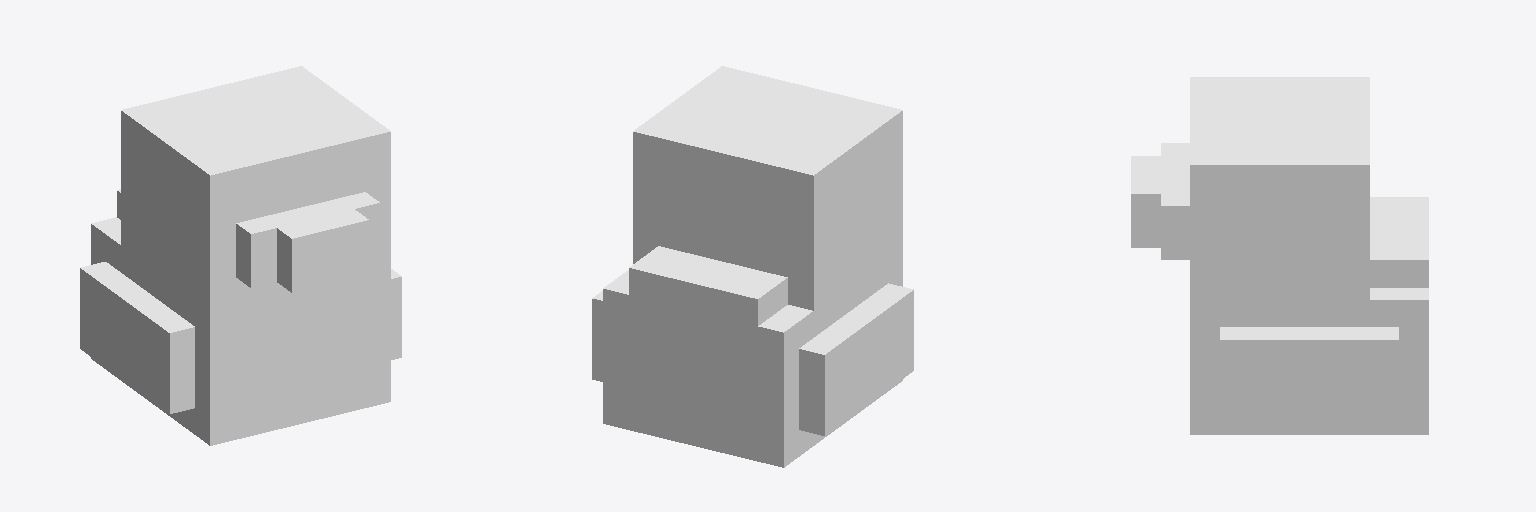
The model's file is duck-2.obj.
3 views of the same model, side by side, from view 1: azimuth 30°, elevation 25°; view 2: azimuth 150°, elevation 25°; view 3: azimuth 270°, elevation 25° (orthographic).
Visible parts, largest first — view 1: object 1; view 2: object 1; view 3: object 1.
Boxes of the visible parts, box(x1,y1,x2,y2) form: object 1: box(80, 66, 401, 445); object 1: box(592, 66, 913, 467); object 1: box(1131, 77, 1428, 434).
Size of the model in its own units: 0.9 by 1 by 1.